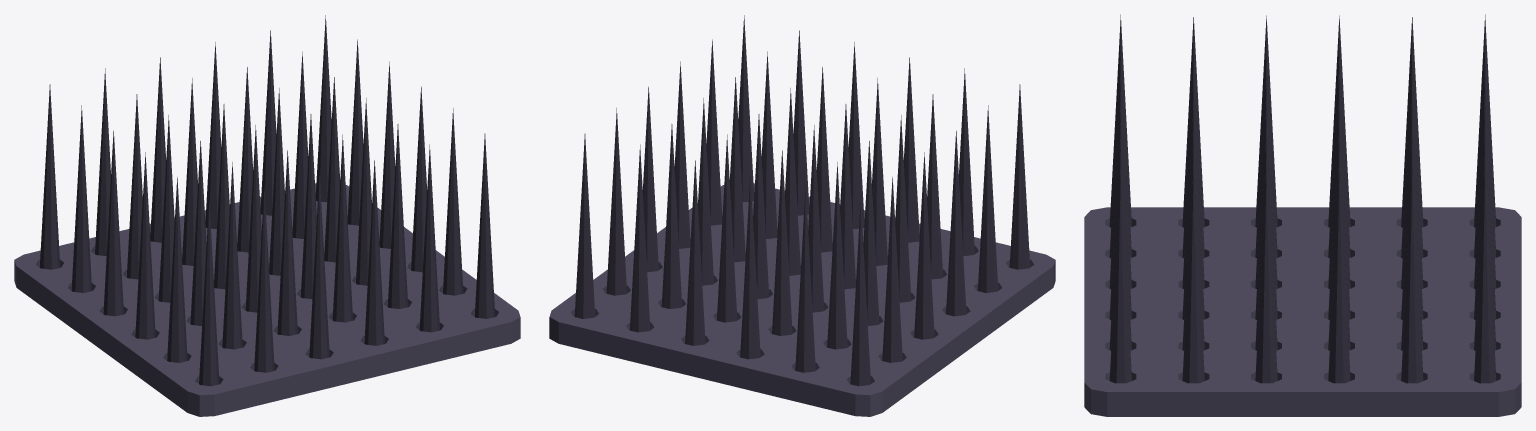
The model's file is trap_spikes.glb.
The picture shows the model from 3 angles, left to right: view 1: azimuth 30°, elevation 25°; view 2: azimuth 150°, elevation 25°; view 3: azimuth 270°, elevation 25°; orthographic projection. The views are drawn at different scales.
Parts seen in each view (by area): view 1: Trap_spikes; view 2: Trap_spikes; view 3: Trap_spikes.
Boxes of the visible parts, x1=… form: Trap_spikes: x1=14, y1=15, x2=520, y2=416; Trap_spikes: x1=549, y1=15, x2=1055, y2=416; Trap_spikes: x1=1084, y1=14, x2=1521, y2=416.
Bounding box in the file's own units: 1.99 × 1.17 × 1.99.
